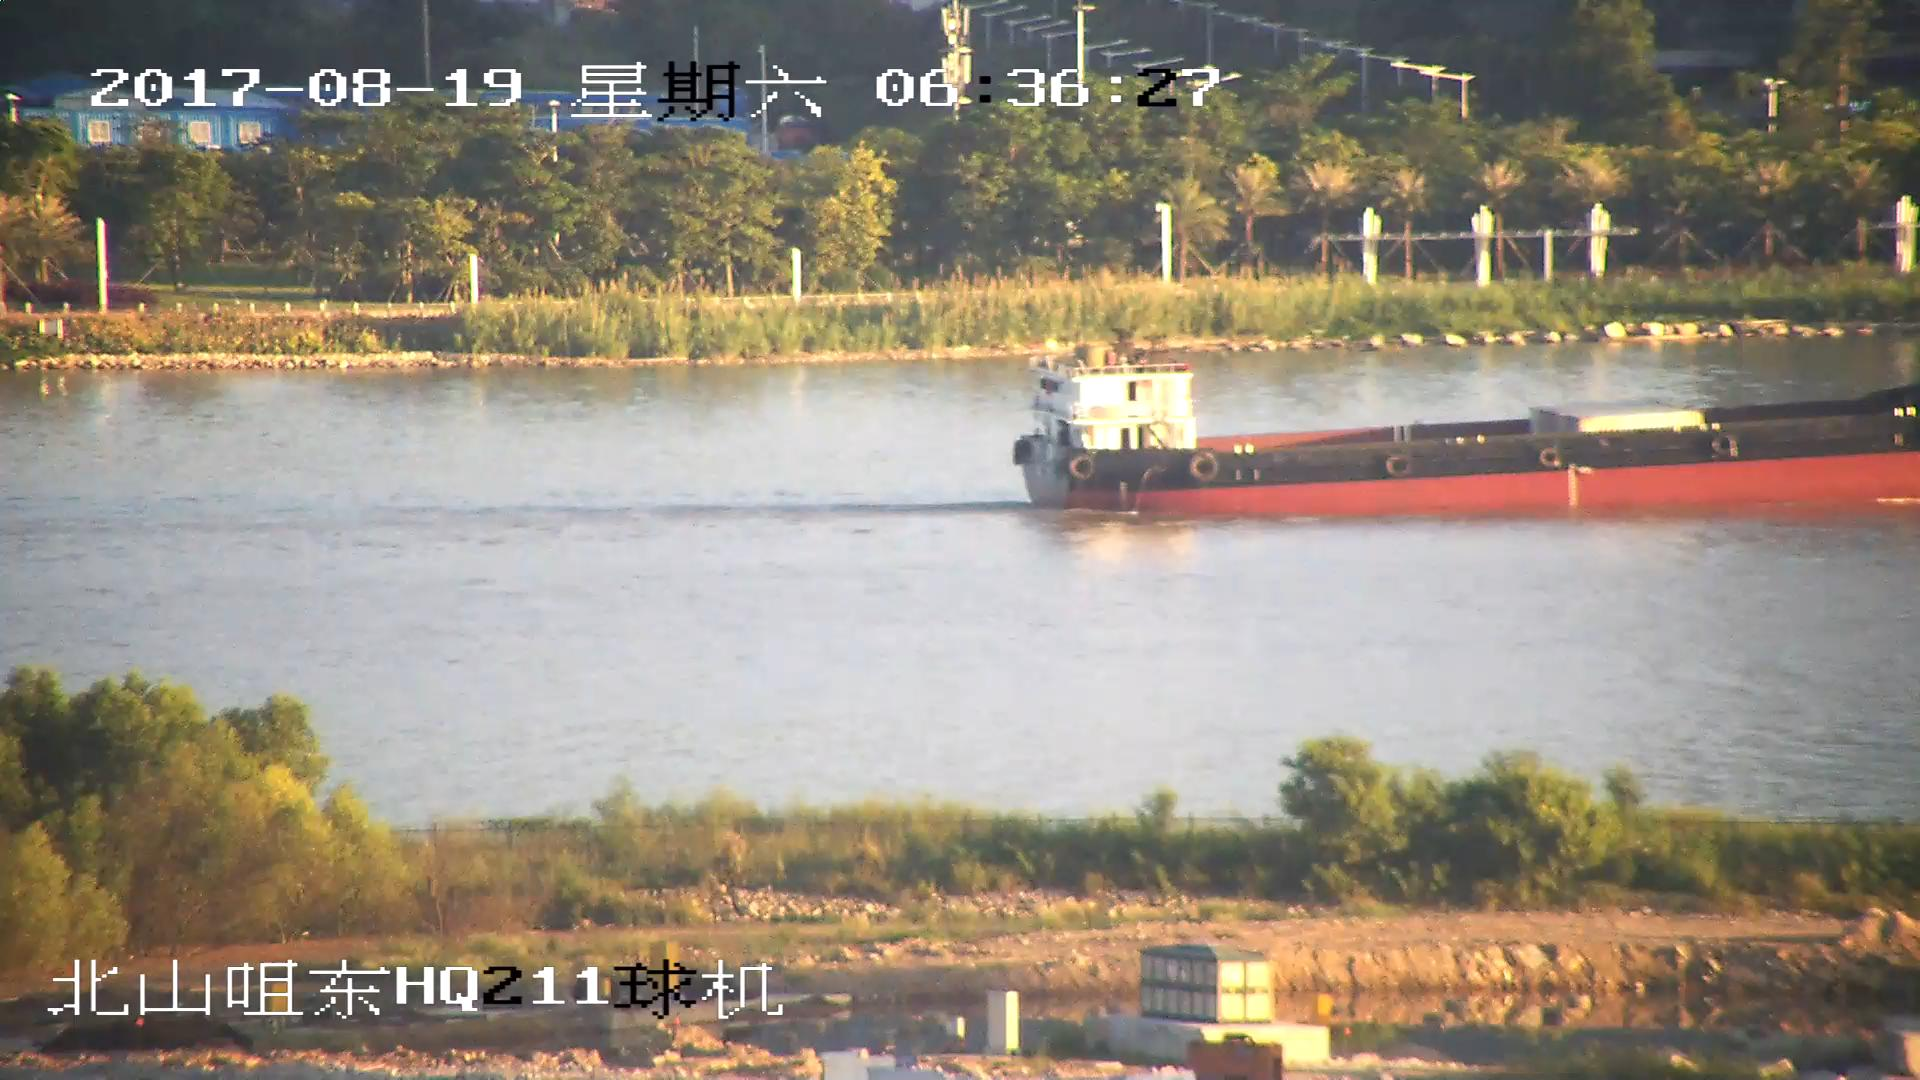general cargo ship: (1019, 352, 1920, 510)
